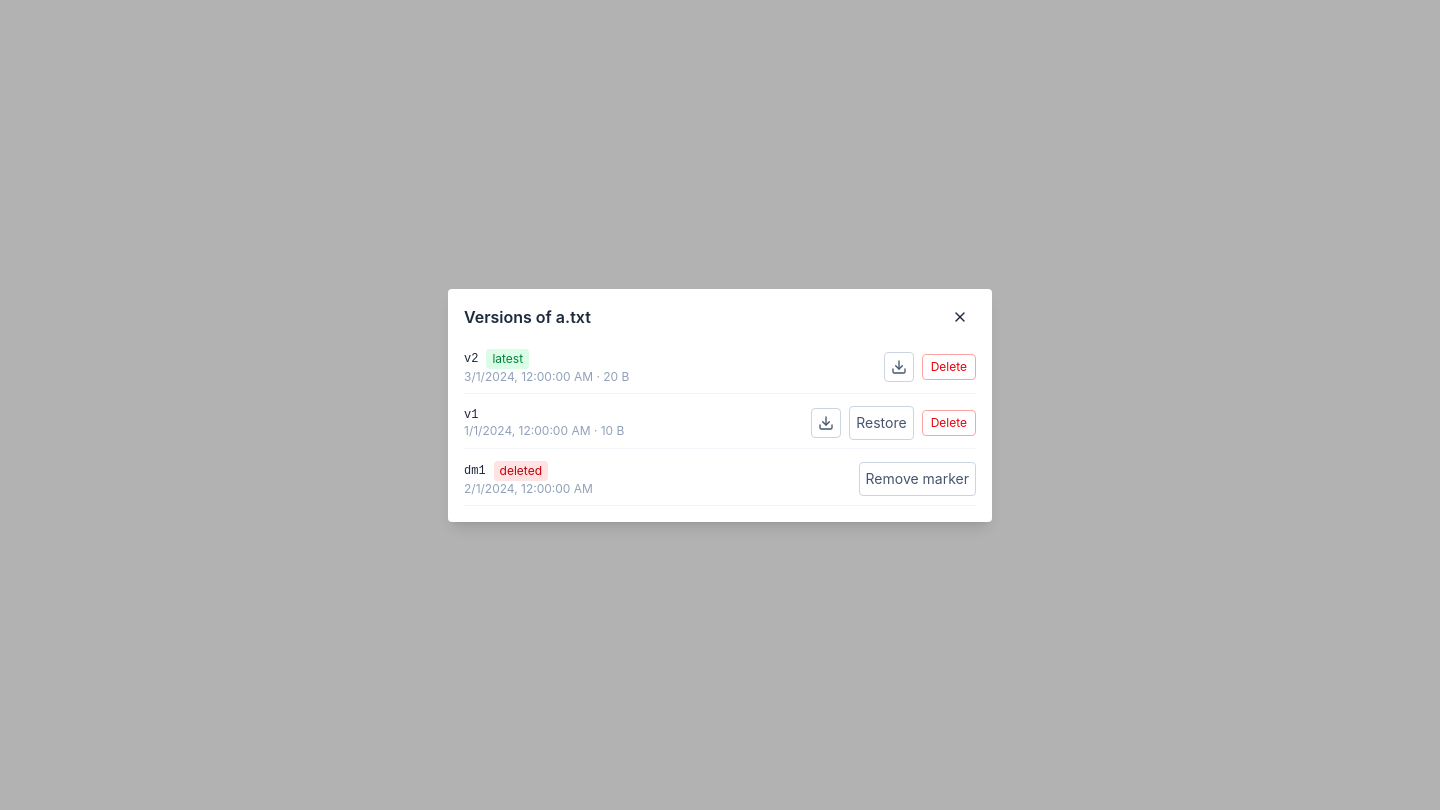
Test: VersionsDialog › downloads a version, disables Download while it runs, and toasts "Downloaded"
Expected: the text "latest" is shown, [486,348,529,368]
Click the button named "Download" in the row of "v2": point(899, 366) [884,352,914,382]
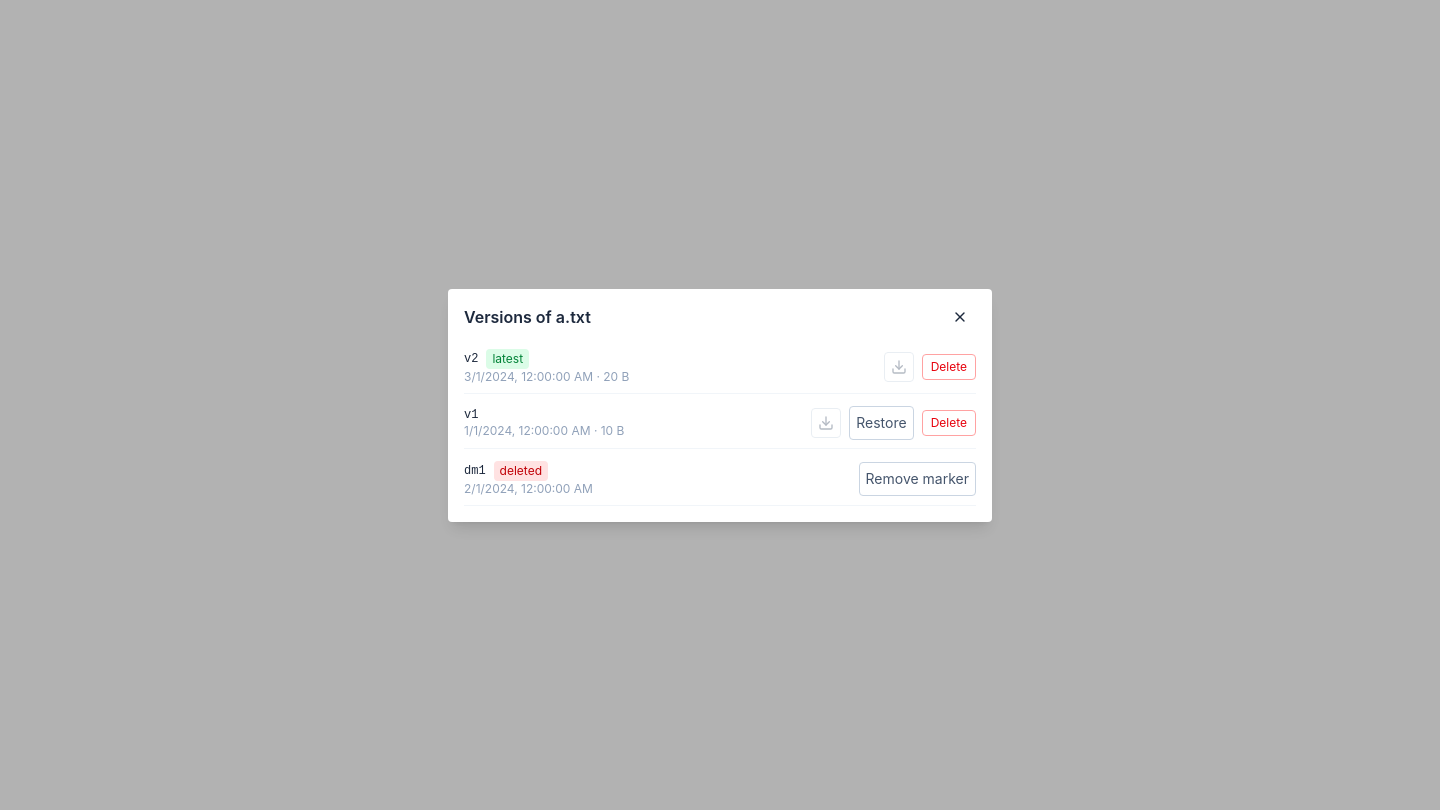
Expected: the button named "Download" in the row of "v2" is disabled
Expected: the button named "Download" in the row of "v1" is disabled, [811,408,841,438]
Click the button named "Download" in the row of "v2": point(899, 366) [884,352,914,382]
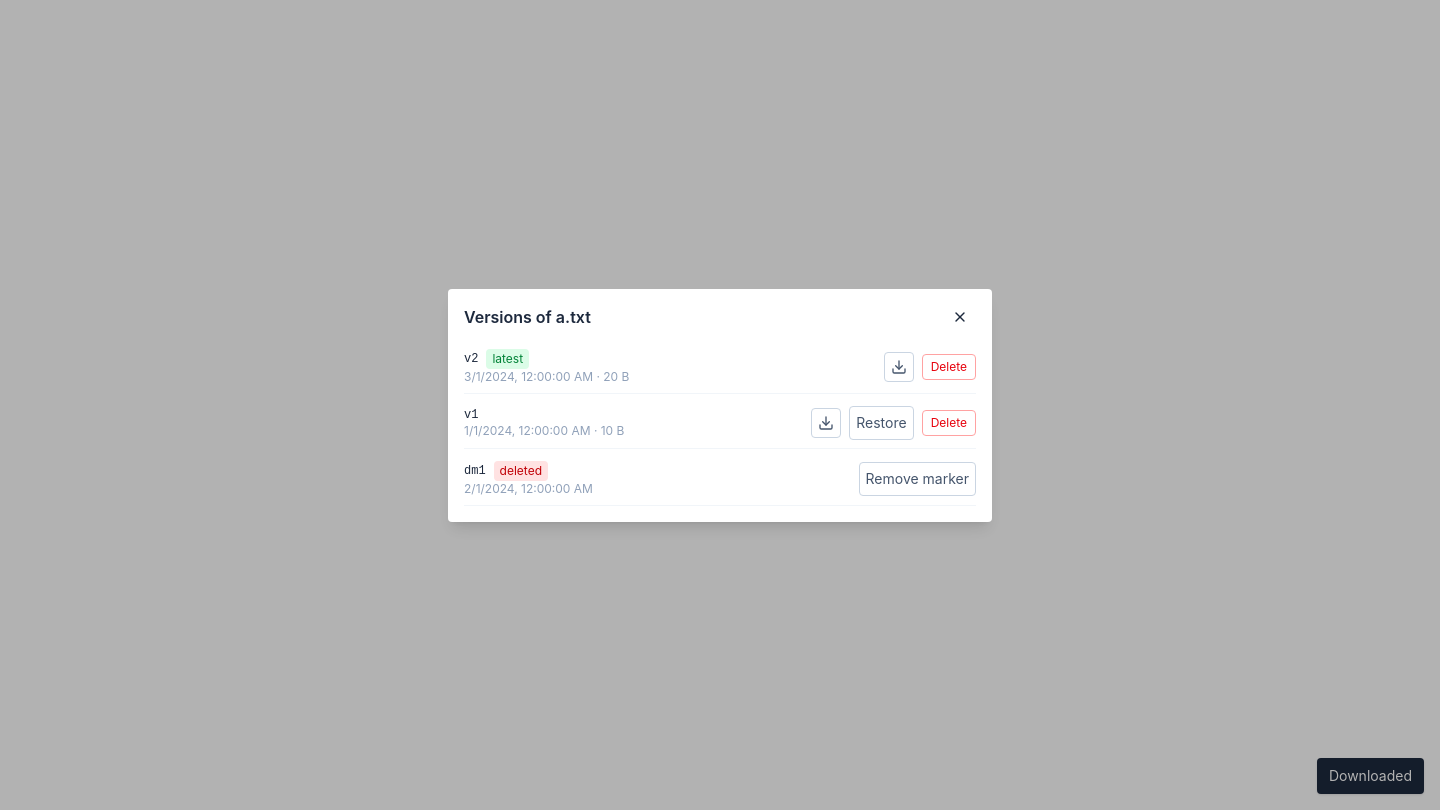
Expected: the text "Downloaded" is shown, [1317,758,1424,794]
Expected: the button named "Download" in the row of "v2" is enabled, [884,352,914,382]
